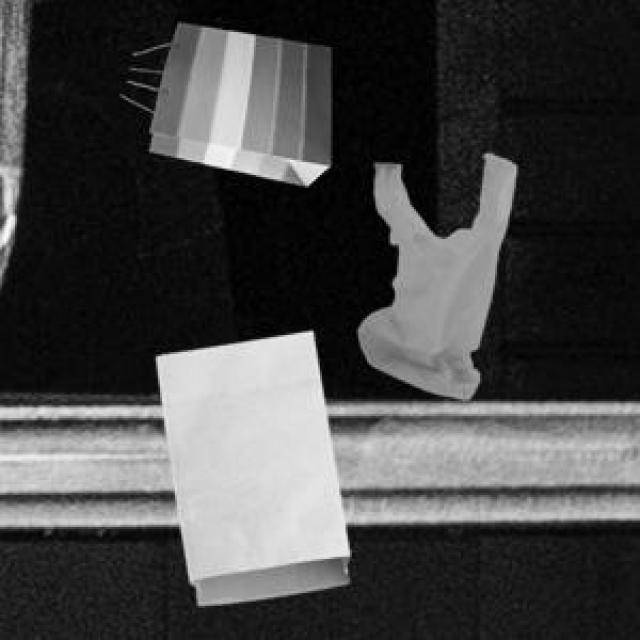paper: (152, 326, 346, 602), (145, 19, 326, 181)
